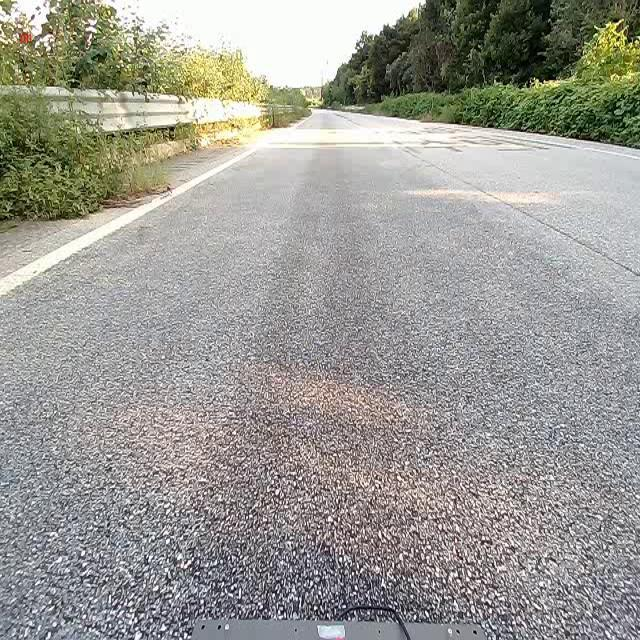Lane: (0, 140, 271, 300), (0, 144, 265, 297)
